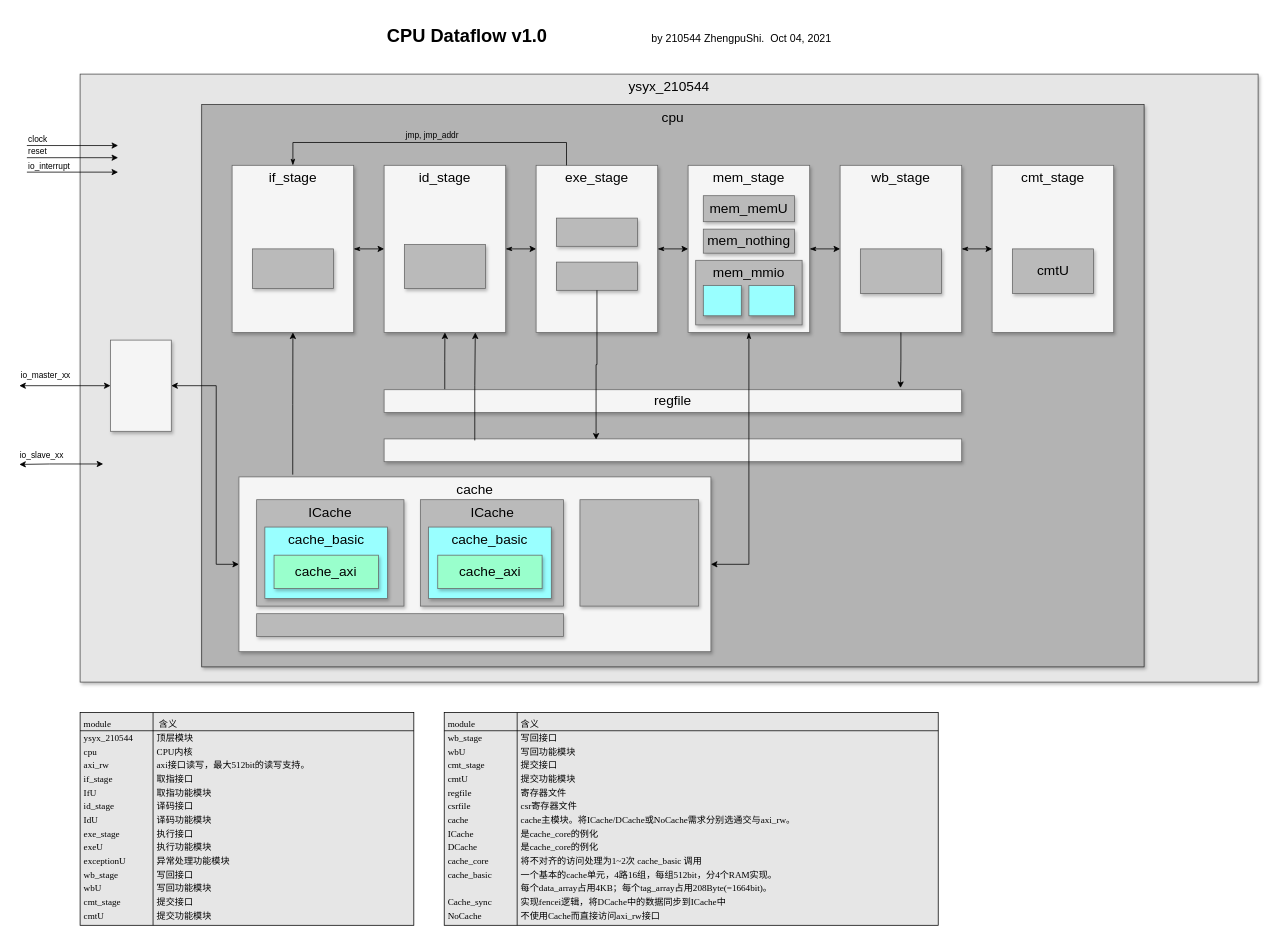
Some shapes in this 1276 by 945 pixel diagram are drawn without their labels. Each missing label, with the centre of its shape:
"axi_rw" goes at point 141,386.
"Cache_sync" goes at point 410,626.
"clint" goes at point 772,301.
"csrfile" goes at point 673,451.
"exceptionU" goes at point 597,277.
"exeU" goes at point 597,233.
"IdU" goes at point 445,267.
"IfU" goes at point 293,269.
"NoCache" goes at point 639,553.
"rtc" goes at point 723,301.
"wbU" goes at point 901,272.
